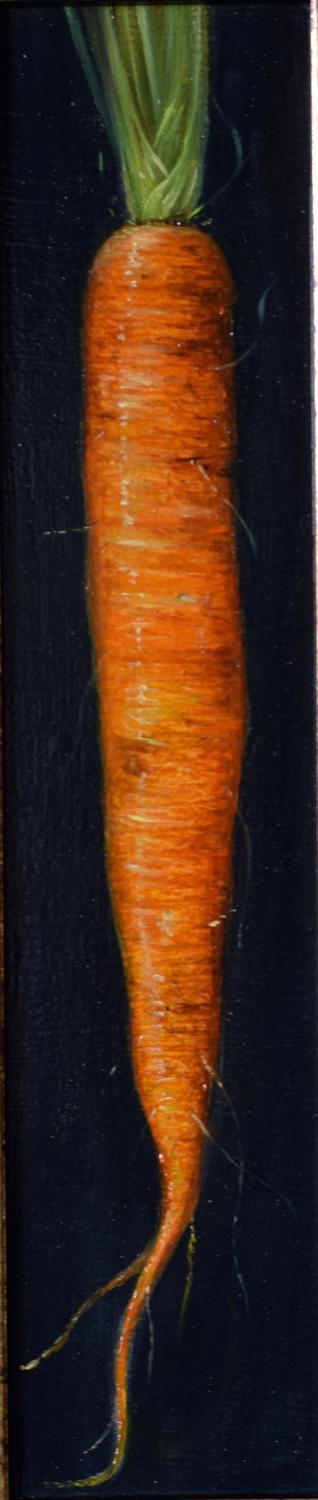carrot: (29, 12, 287, 1485)
